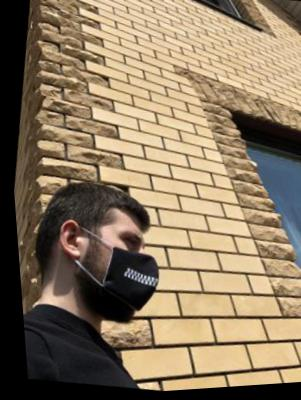WRONG: (79, 219, 155, 332)
